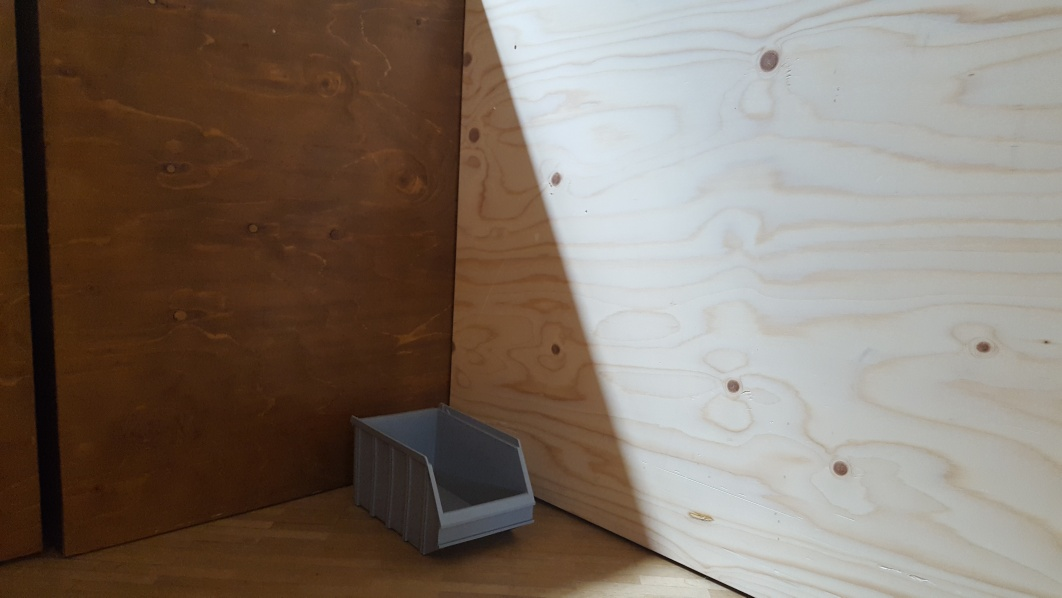tray: (346, 402, 541, 555)
